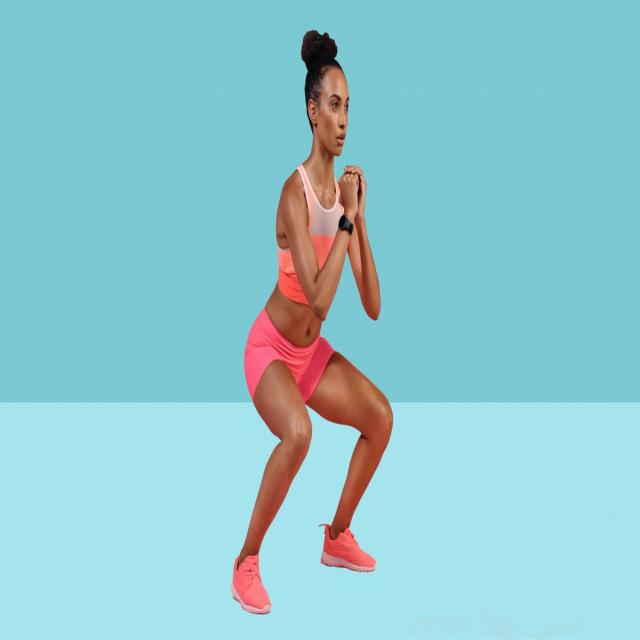squat: (228, 24, 395, 616)
